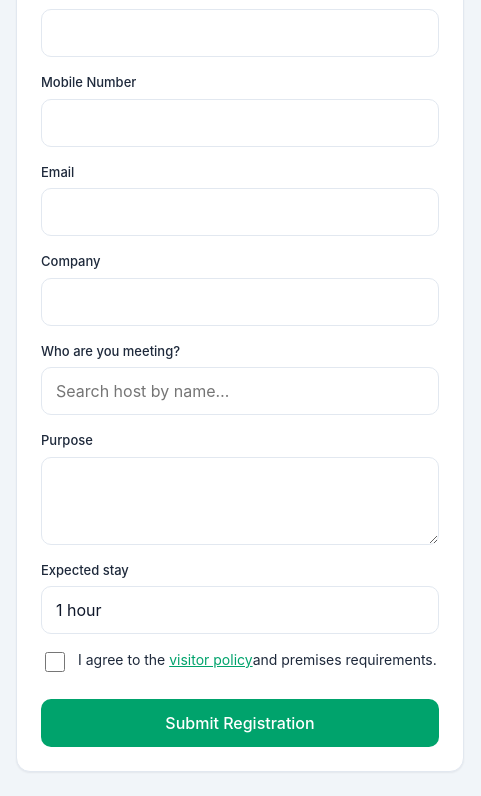
Test: VisitorRegistrationPage › validates required fields
(page scrolled)
Click the button "Submit Registration".
click(240, 723)  # box x1=41 y1=699 x2=439 y2=747
(page scrolled)
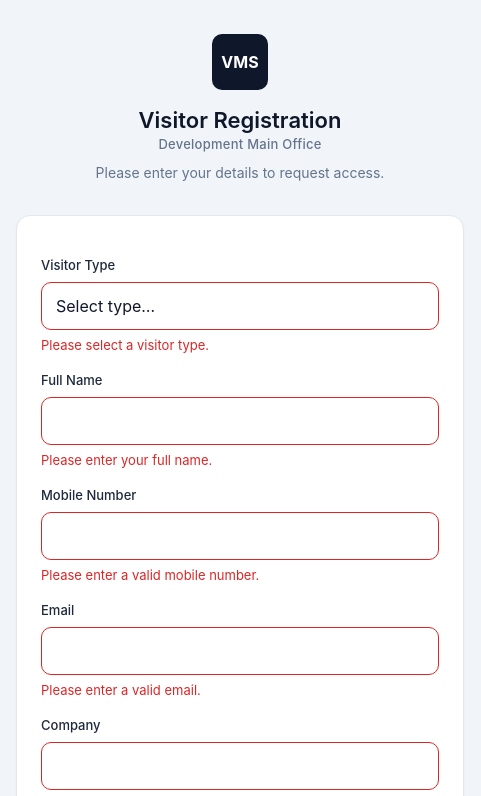
Result: the text "Please select a visitor type." is shown at x1=41 y1=337 x2=209 y2=353
